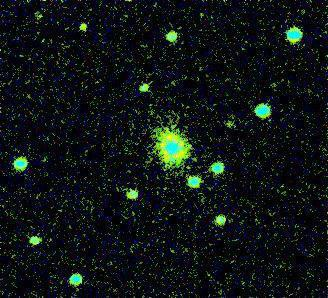star: (69, 13, 99, 43)
